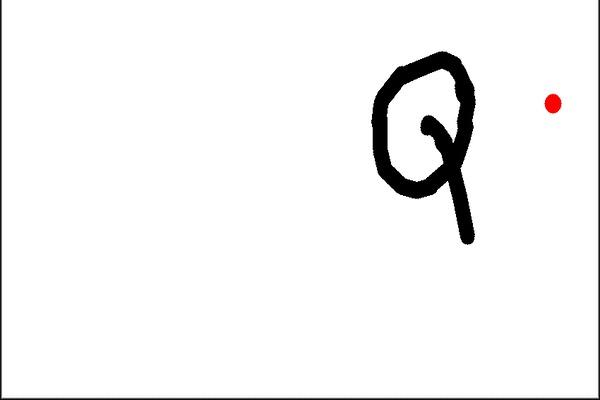Q: (359, 42, 495, 253)
